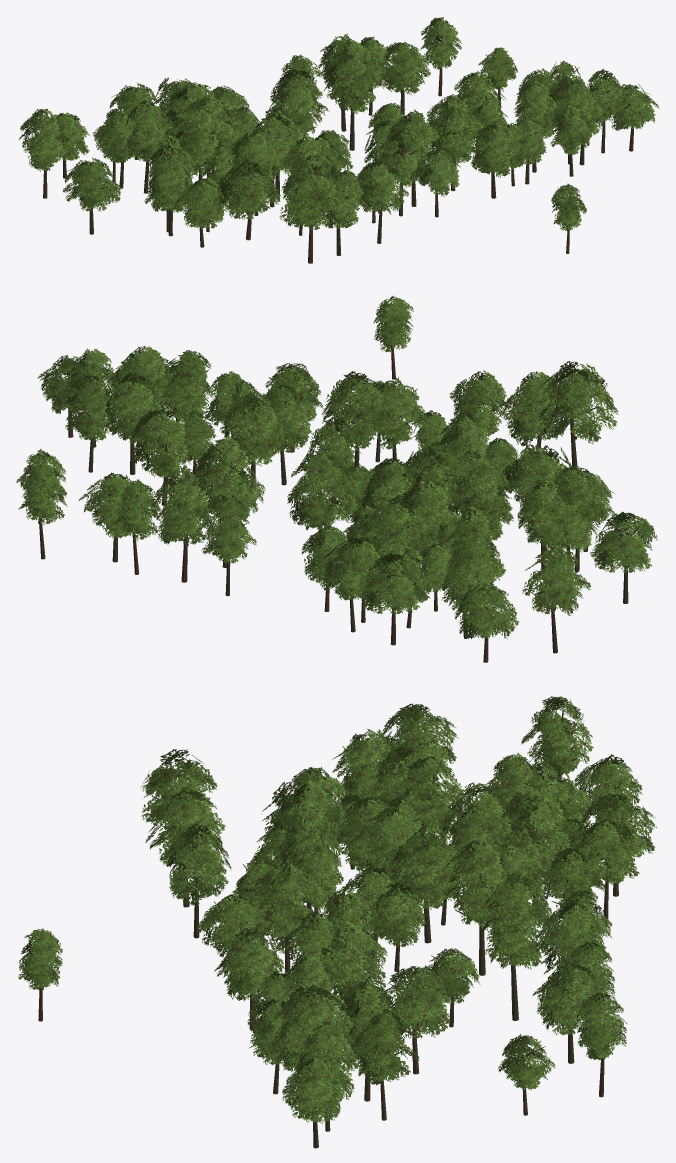
The model's file is TRB8-FOREST-CHUNK-3-4.glb.
3 views of the same model, one above another, from view 1: azimuth 30°, elevation 25°; view 2: azimuth 150°, elevation 25°; view 3: azimuth 270°, elevation 25° (orthographic). The views are drawn at different scales.
Visible parts, largest first — view 1: TRB8-FOREST-CHUNK-3-4; view 2: TRB8-FOREST-CHUNK-3-4; view 3: TRB8-FOREST-CHUNK-3-4.
Part boxes in pixels (<box>): TRB8-FOREST-CHUNK-3-4: <box>18,17,659,263</box>; TRB8-FOREST-CHUNK-3-4: <box>16,295,657,662</box>; TRB8-FOREST-CHUNK-3-4: <box>18,696,656,1148</box>.
Size of the model in its own units: 33.57 by 6.89 by 25.47.
Materials: 2 (1 with a texture image).
